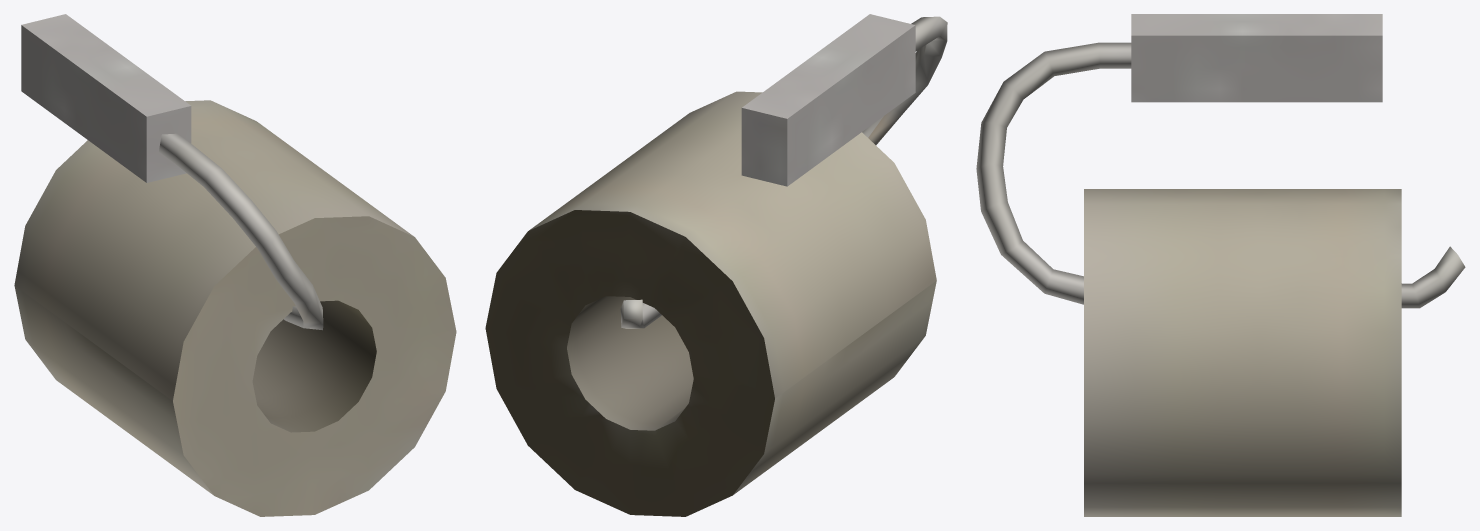
Rendered from T_ToiletPaper.FBX.
3 views of the same model, side by side, from view 1: azimuth 30°, elevation 25°; view 2: azimuth 150°, elevation 25°; view 3: azimuth 270°, elevation 25° (orthographic). The views are drawn at different scales.
Parts seen in each view (by area): view 1: T_ToiletPaper; view 2: T_ToiletPaper; view 3: T_ToiletPaper.
Boxes of the visible parts, x1,y1,x2,y2 form: T_ToiletPaper: (14, 14, 456, 516); T_ToiletPaper: (485, 14, 947, 516); T_ToiletPaper: (976, 14, 1465, 516).
Size of the model in its own units: 10.37 by 14.41 by 15.31.
